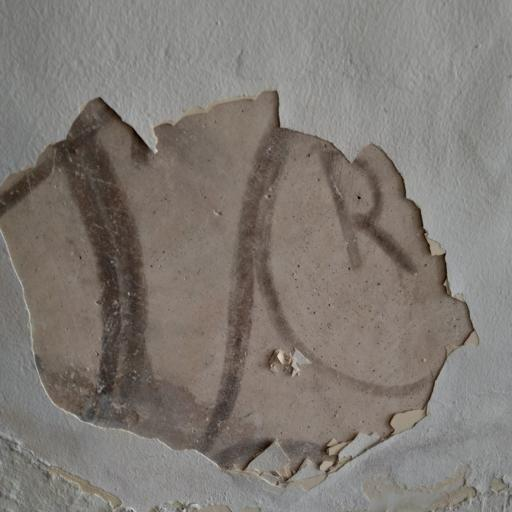peeling: (0, 57, 490, 499)
